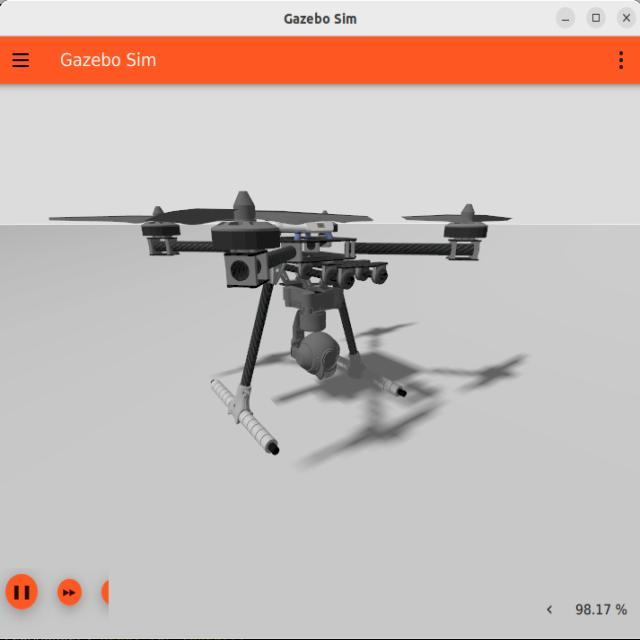drone: (41, 183, 514, 471)
